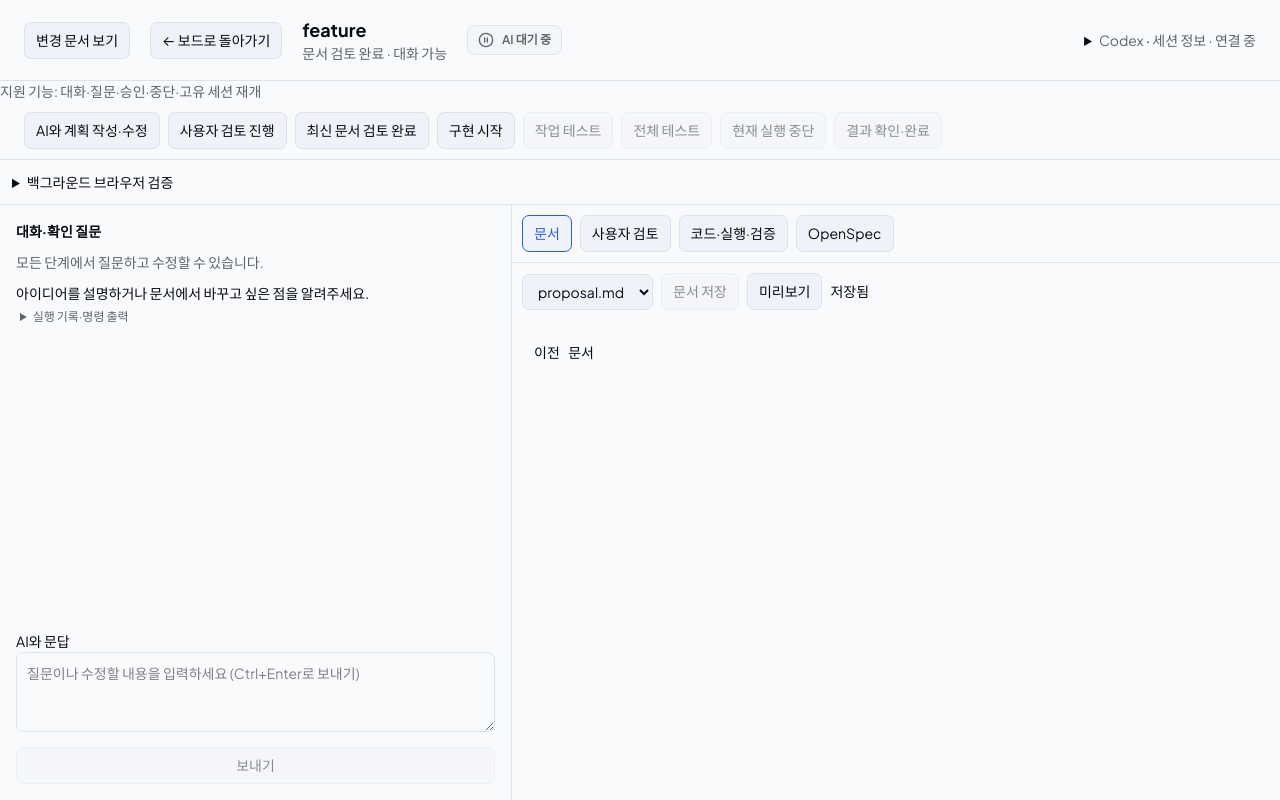
Test: 저장 성공 후 SSE 없이도 검토 목록을 갱신하고 검토 액션은 보내지 않는다
Replace the text in the text box named "문서 내용" with "수정 문서" at [896, 560], box [512,320,1279,799]
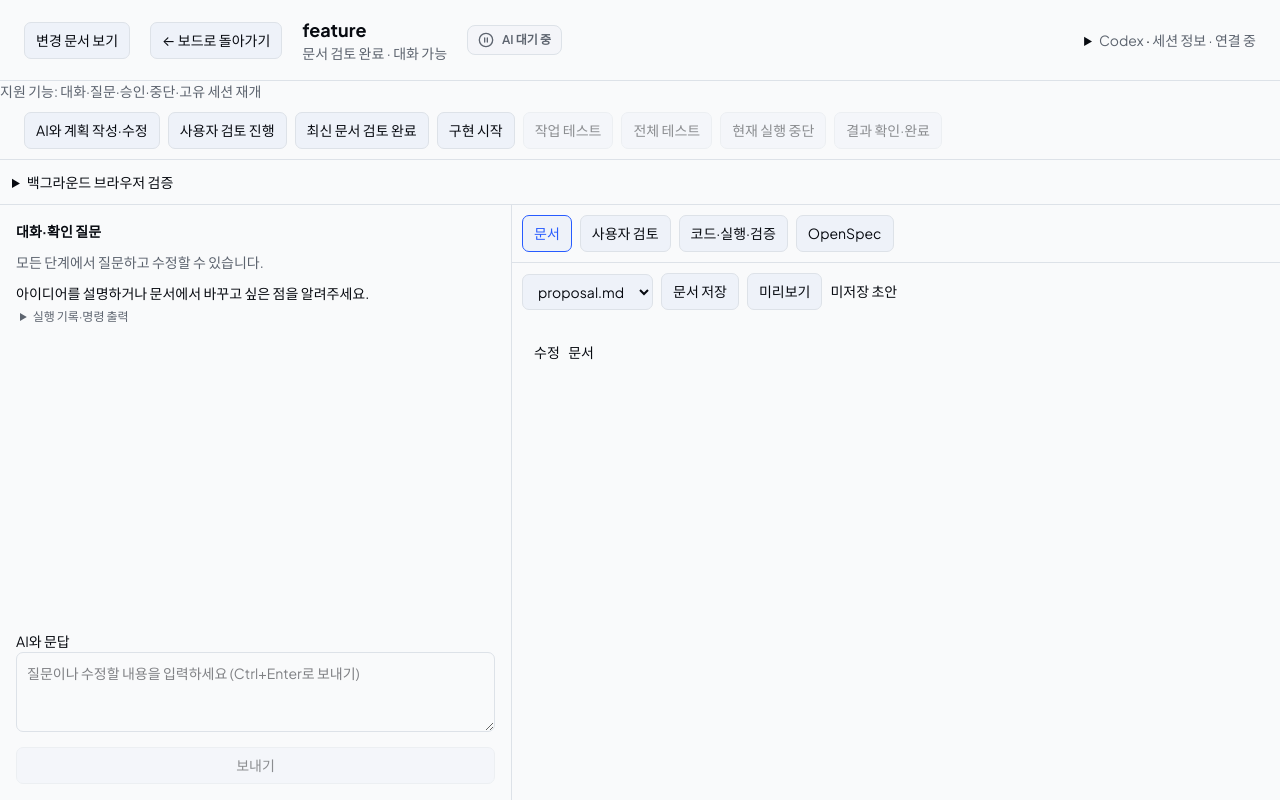
Click the button "문서 저장".
click(700, 292)  # box [661,273,739,310]
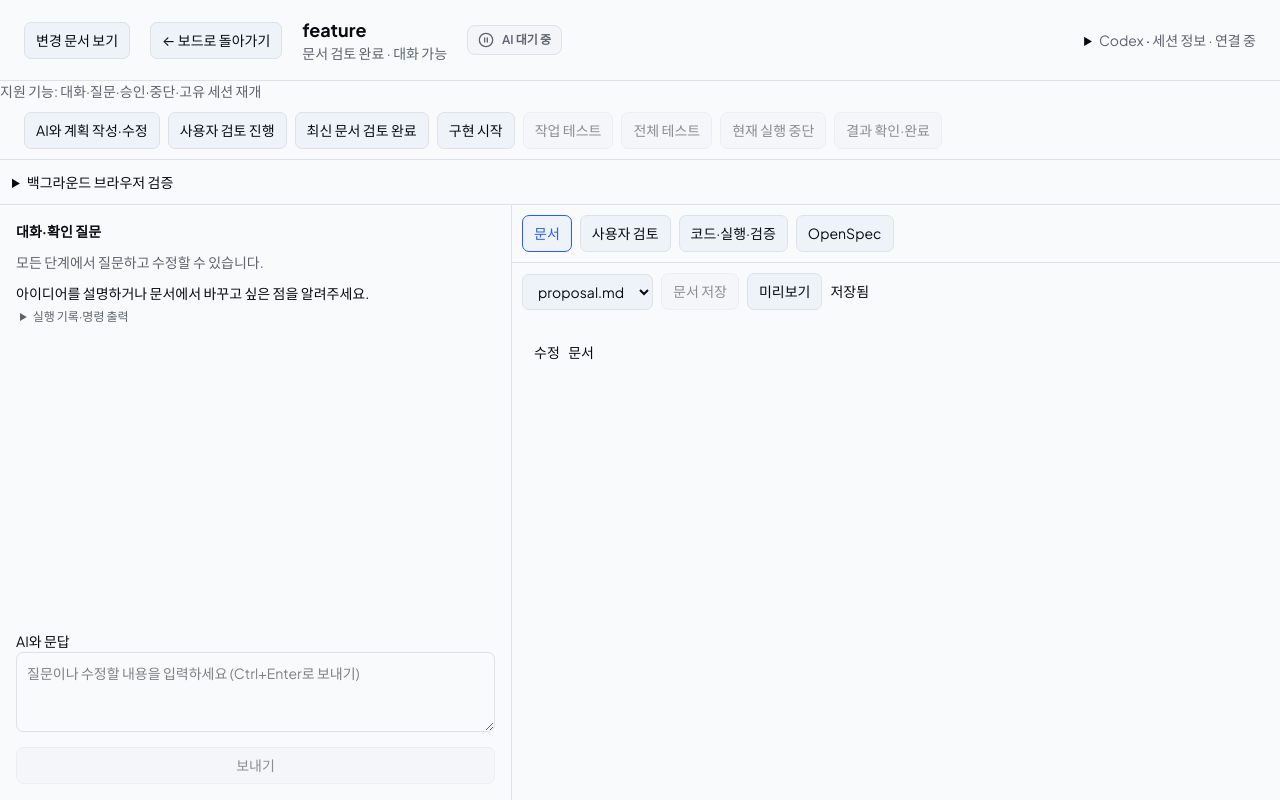
Now the button "문서 저장" is disabled, box [661,273,739,310]
Click the button "사용자 검토".
click(625, 234)  # box [580,215,671,252]
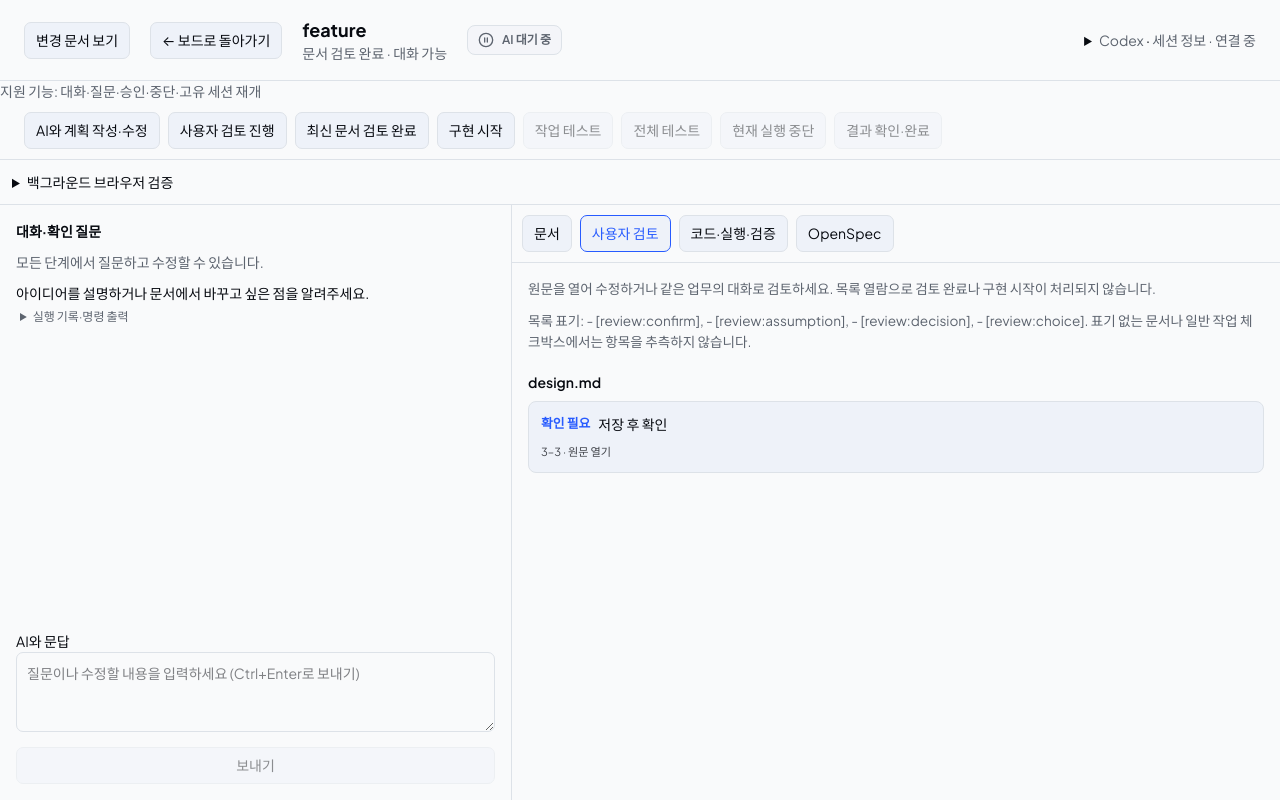
Now the text "저장 후 확인" is shown, box [598,415,668,433]
